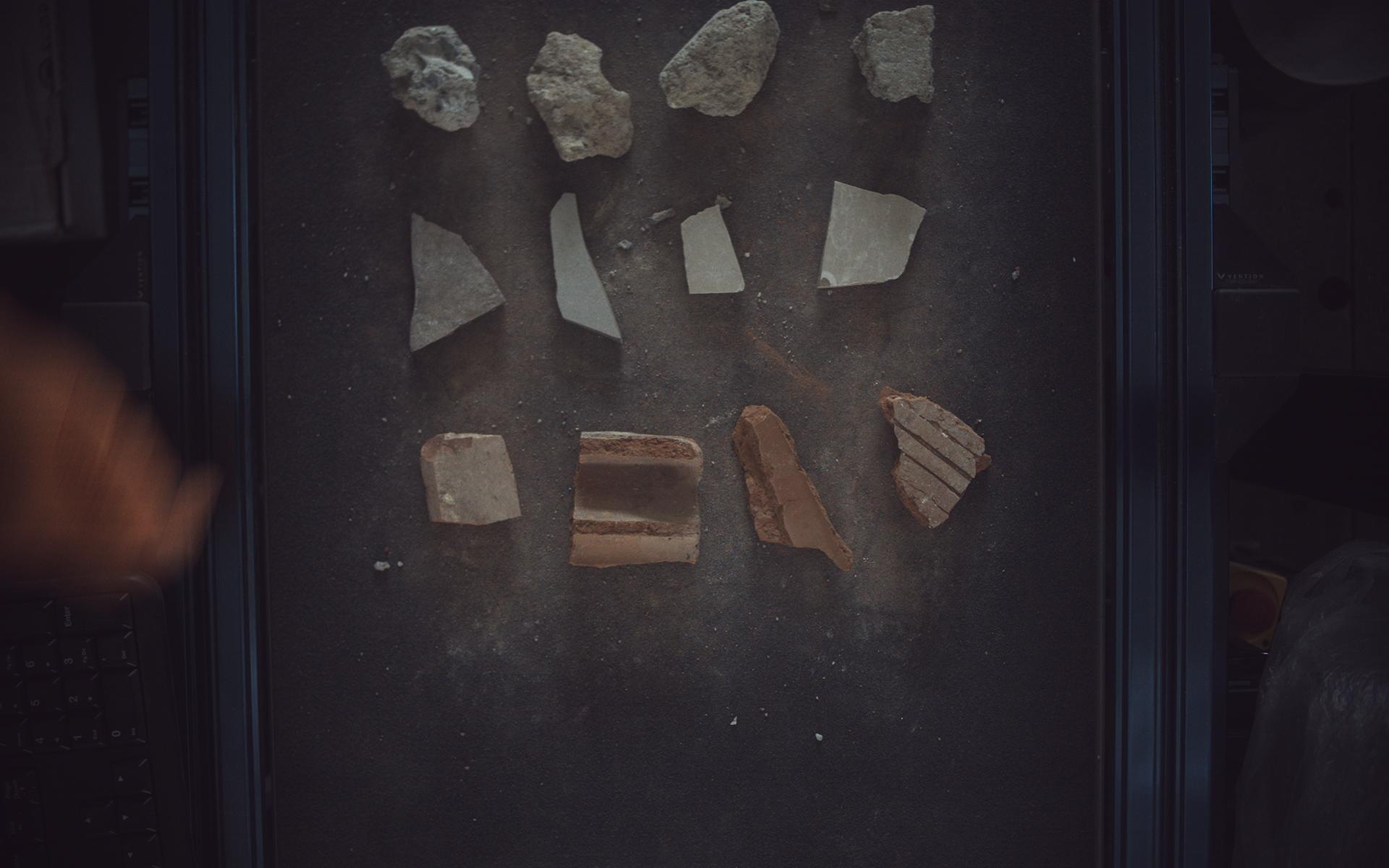brick: (734, 405, 854, 571), (570, 431, 704, 568), (881, 387, 993, 528), (420, 433, 521, 526)
concrete: (527, 30, 634, 161), (660, 1, 781, 115), (381, 24, 480, 130), (852, 4, 937, 102)
tile: (409, 213, 506, 351), (820, 181, 927, 287), (551, 192, 622, 340), (681, 205, 747, 294)
